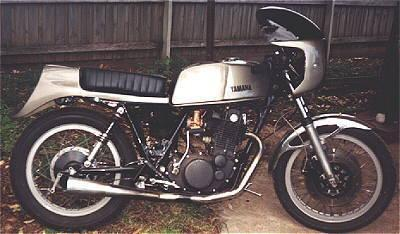motorcycle: (9, 1, 400, 234)
